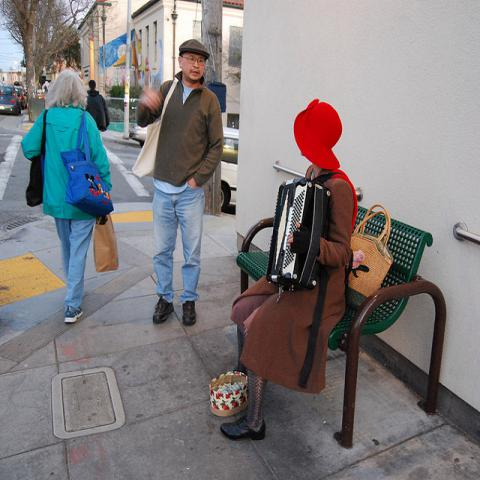car: (221, 125, 239, 212), (129, 124, 148, 149), (0, 97, 22, 117), (14, 85, 28, 110)
